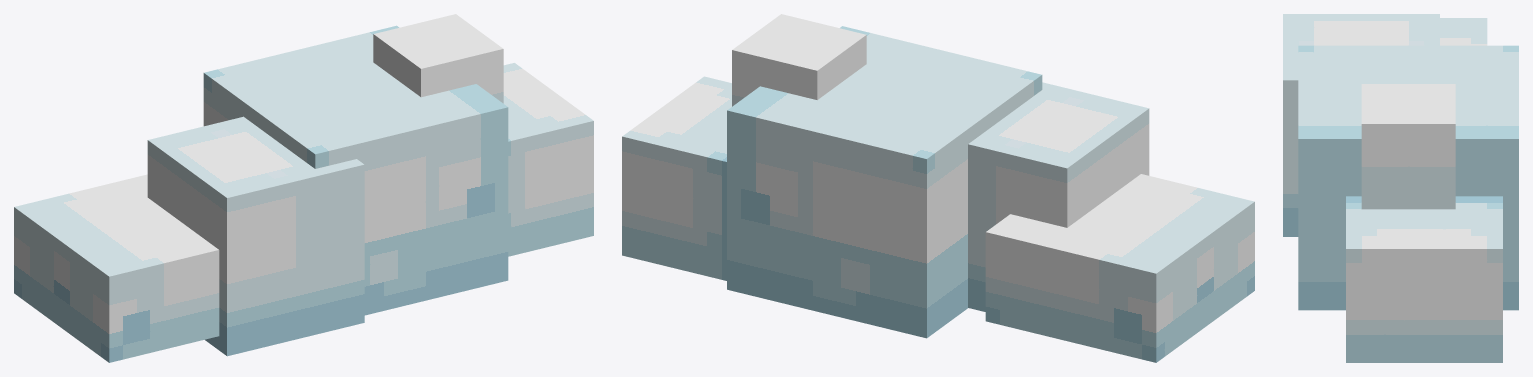
The model's file is large-cloud.gltf.
3 renders of one model, left to right at view 1: azimuth 30°, elevation 25°; view 2: azimuth 150°, elevation 25°; view 3: azimuth 270°, elevation 25°, orthographic. The views are drawn at different scales.
Visible parts, largest first — view 1: cube (×5); view 2: cube (×5); view 3: cube (×5).
Part boxes in pixels (bbox=[...]): cube (×5): bbox=[14, 14, 593, 362]; cube (×5): bbox=[622, 14, 1254, 362]; cube (×5): bbox=[1283, 14, 1518, 362].
Size of the model in its own units: 2.31 by 0.8766 by 0.9391.
1 material, 1 textured.
